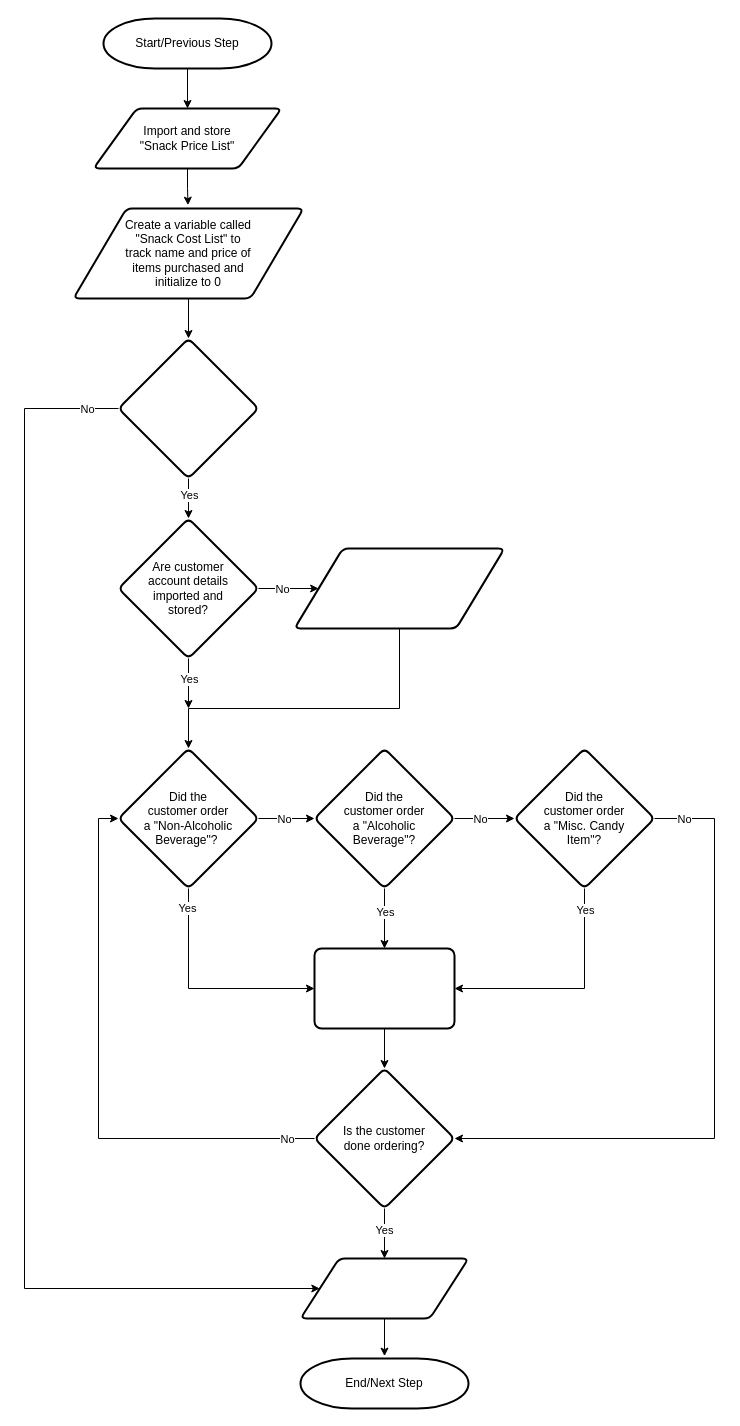
The diagram is 740 pixels wide and 1426 high, and some of its shapes have lost their labels. Here are the shapes that lost their labels. From the top down, the box of each, then its label:
(117, 337, 259, 479): Does the customer want to purchase a snack?
(293, 547, 505, 629): Import and store customer account details by scanning QR code.
(313, 947, 455, 1029): Add associated item from the "Snack Price List" to the "Snack Cost List"
(299, 1257, 469, 1319): Output "Snack Cost List"
